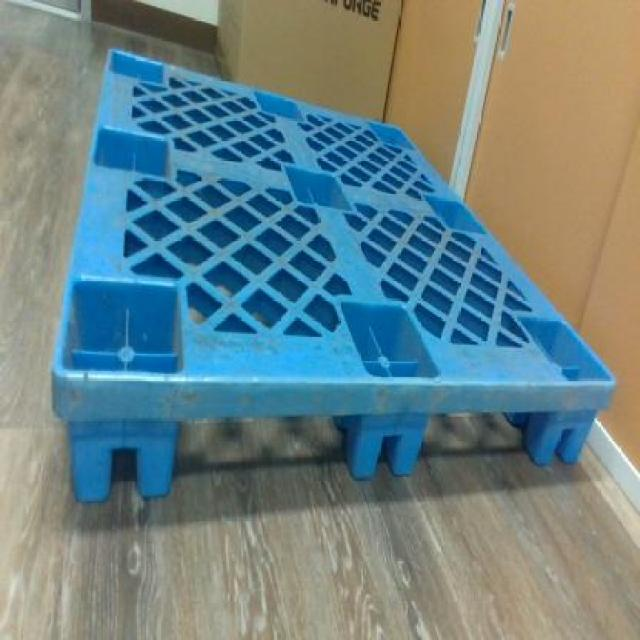block: (68, 412, 182, 504), (353, 411, 430, 480), (535, 409, 600, 466)
front: (42, 371, 622, 508)
